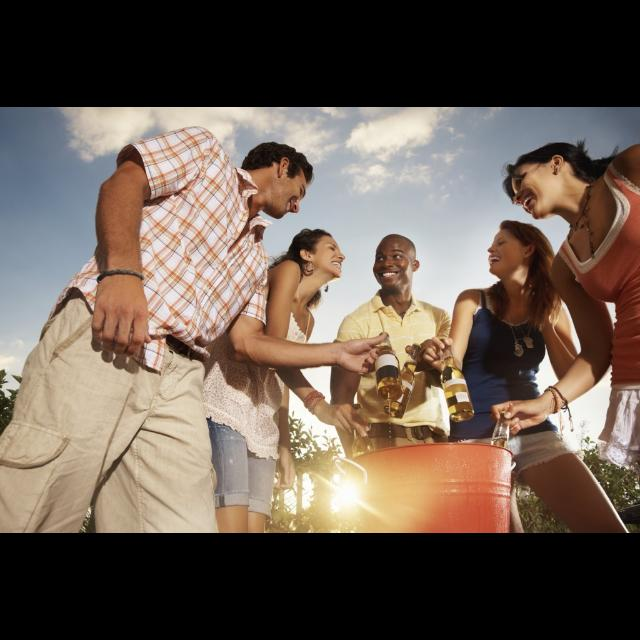head: (510, 143, 590, 221), (245, 143, 309, 221), (486, 224, 540, 282), (292, 229, 348, 283), (374, 234, 422, 288)
